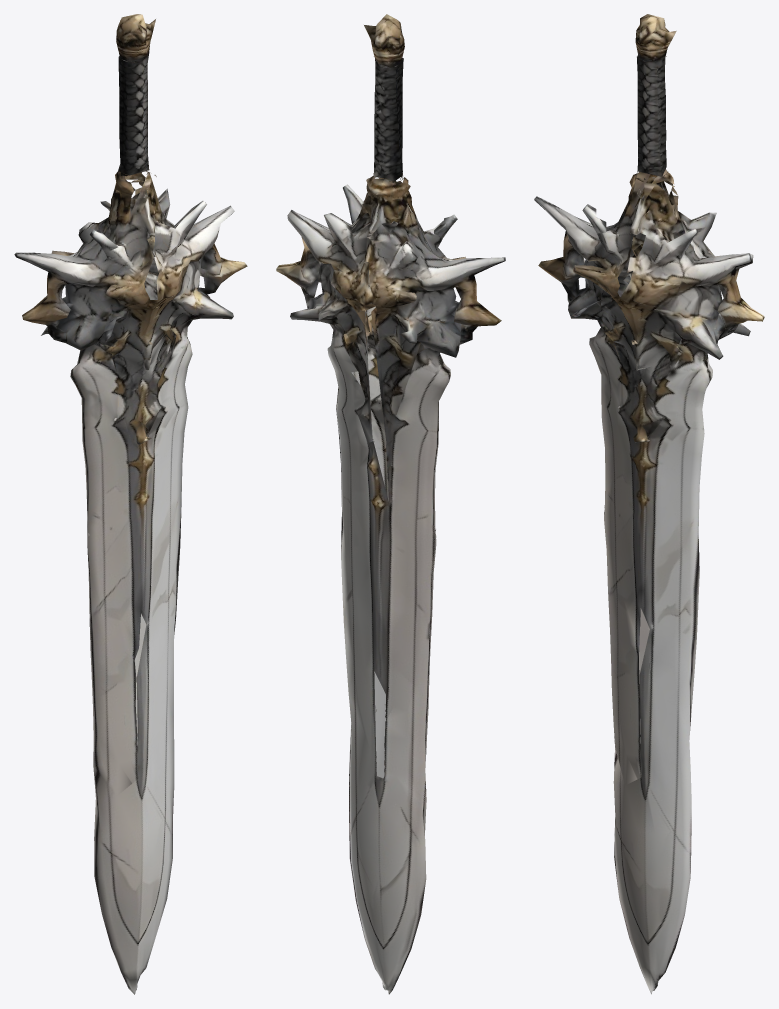
3 renders of one model, left to right at view 1: azimuth 30°, elevation 25°; view 2: azimuth 150°, elevation 25°; view 3: azimuth 330°, elevation 25°, orthographic.
Visible parts, largest first — view 1: tripo_node_818e36d7-ea21-4189-8fb5-016d44eeb223; view 2: tripo_node_818e36d7-ea21-4189-8fb5-016d44eeb223; view 3: tripo_node_818e36d7-ea21-4189-8fb5-016d44eeb223.
Part boxes in pixels (left/top/right/bottom): tripo_node_818e36d7-ea21-4189-8fb5-016d44eeb223: left=14, top=14, right=247, bottom=994; tripo_node_818e36d7-ea21-4189-8fb5-016d44eeb223: left=276, top=14, right=505, bottom=994; tripo_node_818e36d7-ea21-4189-8fb5-016d44eeb223: left=534, top=14, right=764, bottom=994.
Size of the model in its own units: 0.2345 by 0.9556 by 0.1002.
Materials: 1 (1 with a texture image).
